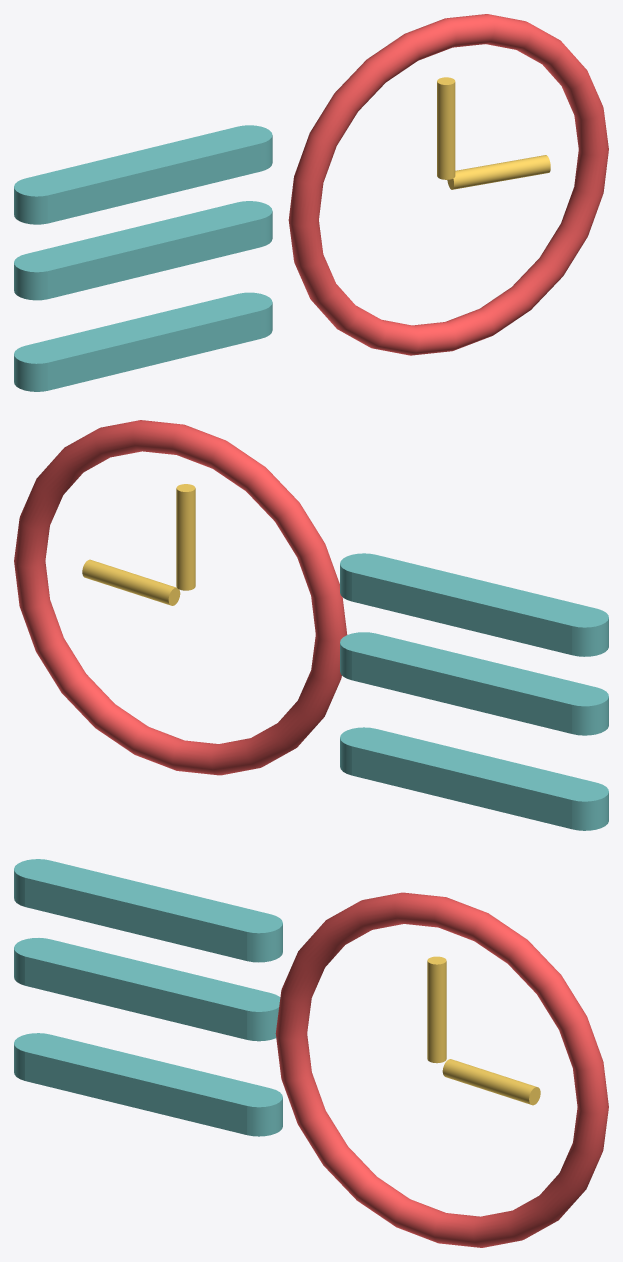
Rendered from Fastmo.fbx.
3 renders of one model, top to bottom at view 1: azimuth 30°, elevation 25°; view 2: azimuth 150°, elevation 25°; view 3: azimuth 330°, elevation 25°, orthographic. The views are drawn at different scales.
Parts seen in each view (by area): view 1: Model; view 2: Model; view 3: Model.
Boxes of the visible parts, left/top/right/bottom form: Model: left=14, top=14, right=608, bottom=391; Model: left=14, top=420, right=608, bottom=830; Model: left=14, top=859, right=608, bottom=1247.
Bounding box in the file's own units: 105 × 57.38 × 10.17.
